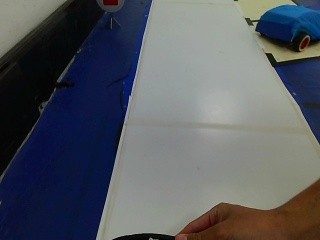car: (254, 5, 318, 52)
